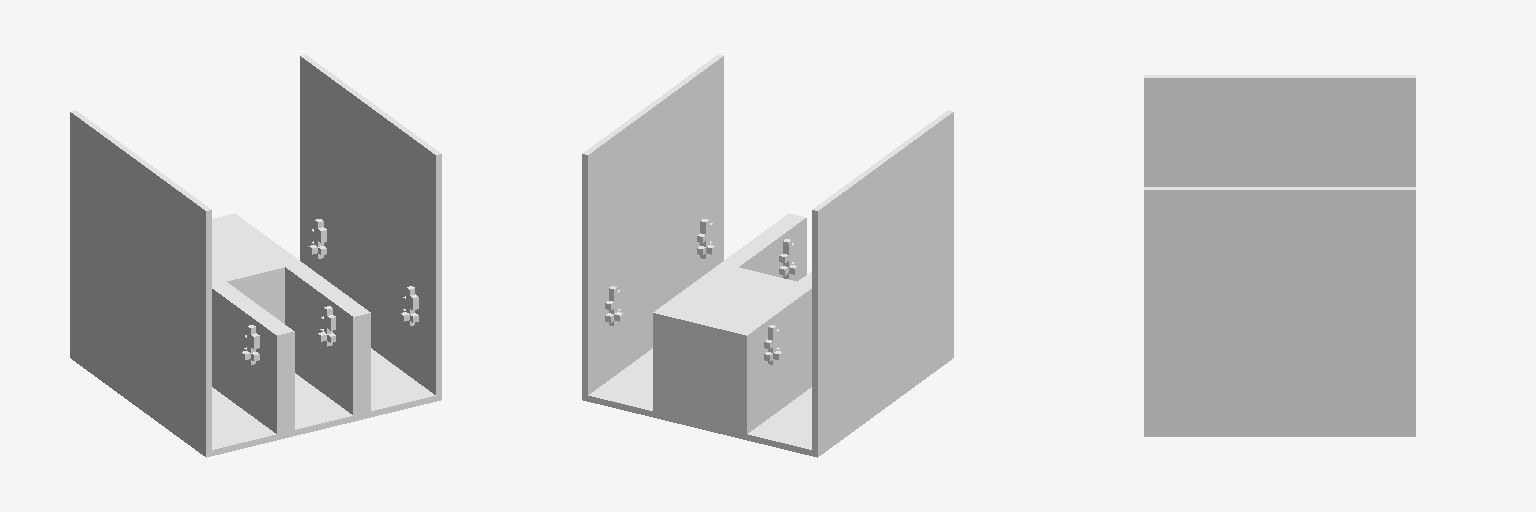
File: corredor1.obj
3 renders of one model, left to right at view 1: azimuth 30°, elevation 25°; view 2: azimuth 150°, elevation 25°; view 3: azimuth 270°, elevation 25°, orthographic.
Visible parts, largest first — view 1: corredor1; view 2: corredor1; view 3: corredor1.
Boxes of the visible parts, x1=… form: corredor1: x1=70, y1=54, x2=441, y2=457; corredor1: x1=582, y1=54, x2=953, y2=457; corredor1: x1=1144, y1=75, x2=1415, y2=436.
Size of the model in its own units: 40 by 40 by 40.